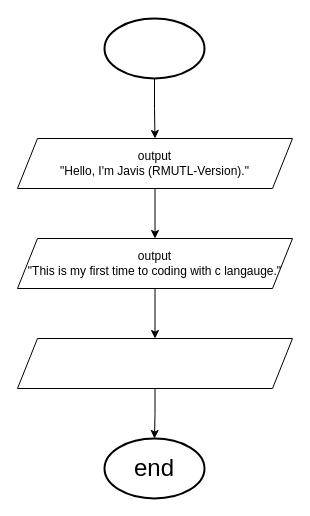
This 310x516 diagram has some shape labels left out. The centre of each missing label's shape, as x and y in pixels:
output "Today is my birthday": point (154, 363)
start: point (154, 48)
